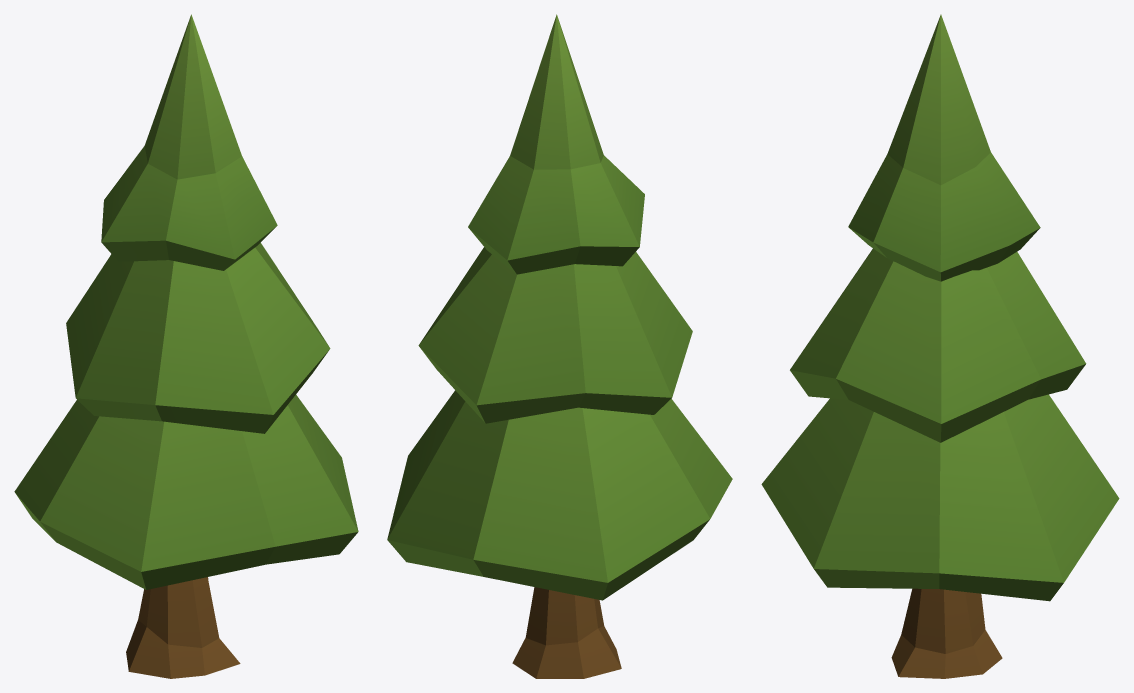
File: smallTree_1.glb
The picture shows the model from 3 angles, left to right: view 1: azimuth 30°, elevation 25°; view 2: azimuth 150°, elevation 25°; view 3: azimuth 270°, elevation 25°; orthographic projection.
Parts seen in each view (by area): view 1: Tree_Spruce_tiny_01; view 2: Tree_Spruce_tiny_01; view 3: Tree_Spruce_tiny_01.
Boxes of the visible parts, x1=… form: Tree_Spruce_tiny_01: x1=14, y1=14, x2=358, y2=678; Tree_Spruce_tiny_01: x1=387, y1=14, x2=732, y2=678; Tree_Spruce_tiny_01: x1=761, y1=14, x2=1119, y2=678.
Size of the model in its own units: 5.43 by 11.01 by 5.5.
1 material, 1 textured.
